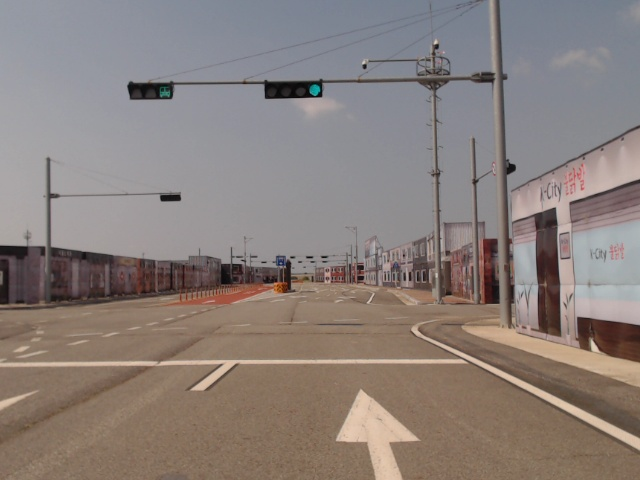straight_green_4: (265, 81, 324, 98)
